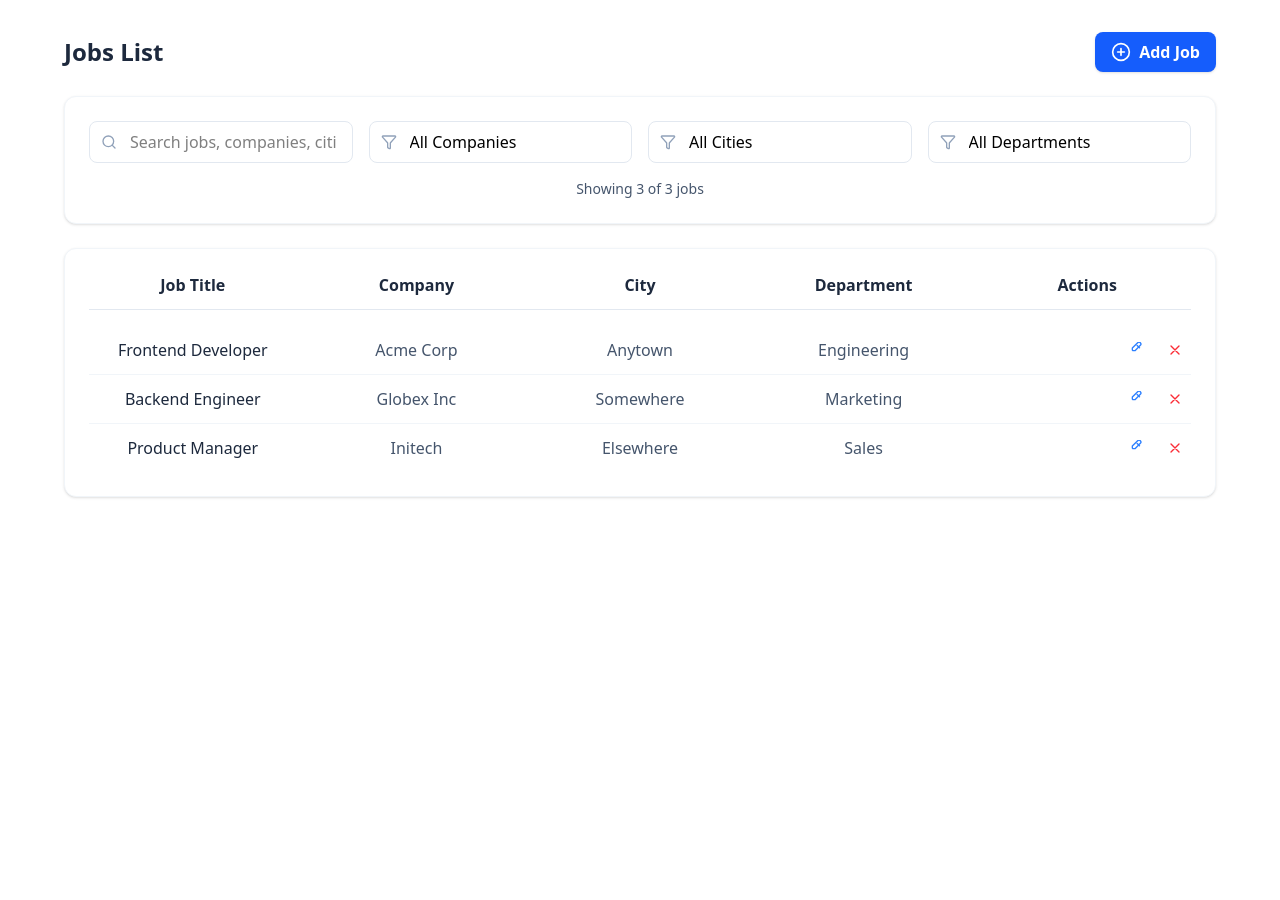
Test: JobSelector › should open edit modal when edit button is clicked
Click the 2nd button at (1135, 350), box [1119,338,1151,362]
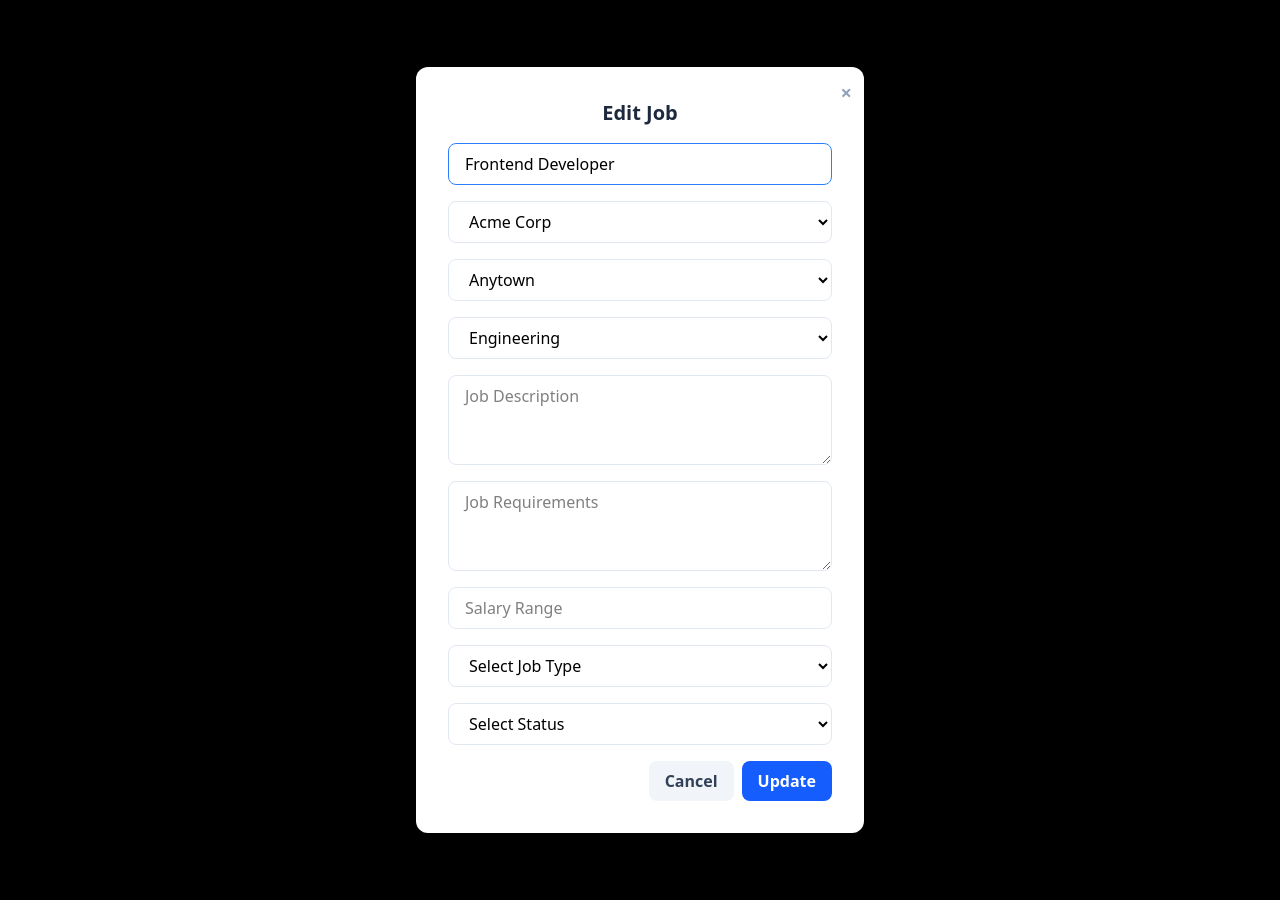
expect the heading "Edit Job" is shown: met, box [602,99,678,126]
